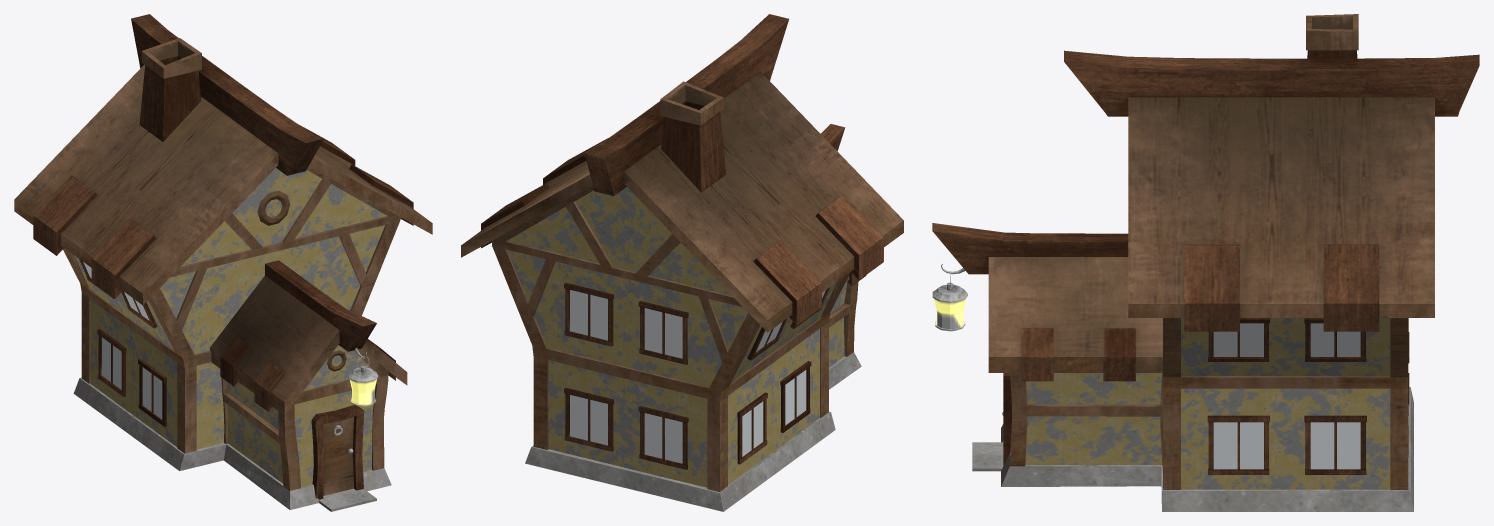
File: damaged_house.glb
3 renders of one model, left to right at view 1: azimuth 30°, elevation 25°; view 2: azimuth 150°, elevation 25°; view 3: azimuth 270°, elevation 25°, orthographic. The views are drawn at different scales.
Parts seen in each view (by area): view 1: roof side, Box001__0, Object016__0, front roof side, Object012__0, Box003__0, Box099, Object014__0, Object008__0, Box002__0, Box012, Box013 (+12 smaller); view 2: Box001__0, roof side, Object016__0, Box003__0, Object008__0, Box099, Box012, Box013, roof side002, Box108, Box110, Box107 (+7 smaller); view 3: roof side002, Box001__0, Box003__0, front roof side002, Object016__0, Object012__0, Object008__0, Box002__0, Box112, Box111, Object014__0, Box106 (+8 smaller).
Boxes of the visible parts, bbox=[...] form: roof side: bbox=[14, 65, 278, 305]; Box001__0: bbox=[74, 168, 387, 449]; Object016__0: bbox=[63, 166, 400, 490]; front roof side: bbox=[210, 276, 339, 415]; Object012__0: bbox=[226, 345, 375, 486]; Box003__0: bbox=[131, 14, 324, 175]; Box099: bbox=[139, 38, 201, 141]; Object014__0: bbox=[223, 444, 391, 511]; Object008__0: bbox=[73, 377, 228, 470]; Box002__0: bbox=[265, 260, 376, 351]; Box012: bbox=[91, 218, 156, 298]; Box013: bbox=[33, 175, 97, 255]; Box001__0: bbox=[507, 187, 836, 487]; roof side: bbox=[624, 71, 903, 332]; Object016__0: bbox=[492, 185, 858, 491]; Box003__0: bbox=[584, 14, 788, 195]; Object008__0: bbox=[525, 411, 835, 511]; Box099: bbox=[660, 81, 726, 192]; Box012: bbox=[815, 195, 883, 279]; Box013: bbox=[753, 240, 821, 325]; roof side002: bbox=[461, 161, 592, 257]; Box108: bbox=[564, 388, 613, 451]; Box110: bbox=[564, 283, 613, 346]; Box107: bbox=[638, 406, 688, 469]; roof side002: bbox=[1128, 97, 1434, 317]; Box001__0: bbox=[1181, 318, 1390, 489]; Box003__0: bbox=[1064, 50, 1479, 116]; front roof side002: bbox=[988, 257, 1162, 372]; Object016__0: bbox=[1010, 318, 1408, 489]; Object012__0: bbox=[1025, 373, 1162, 464]; Object008__0: bbox=[1161, 387, 1413, 511]; Box002__0: bbox=[932, 223, 1128, 274]; Box112: bbox=[1323, 244, 1379, 331]; Box111: bbox=[1184, 244, 1239, 331]; Object014__0: bbox=[972, 424, 1161, 486]; Box106: bbox=[1304, 415, 1366, 474].
Size of the model in its own units: 4.08 by 4.61 by 5.44.
1 material, 1 textured.
